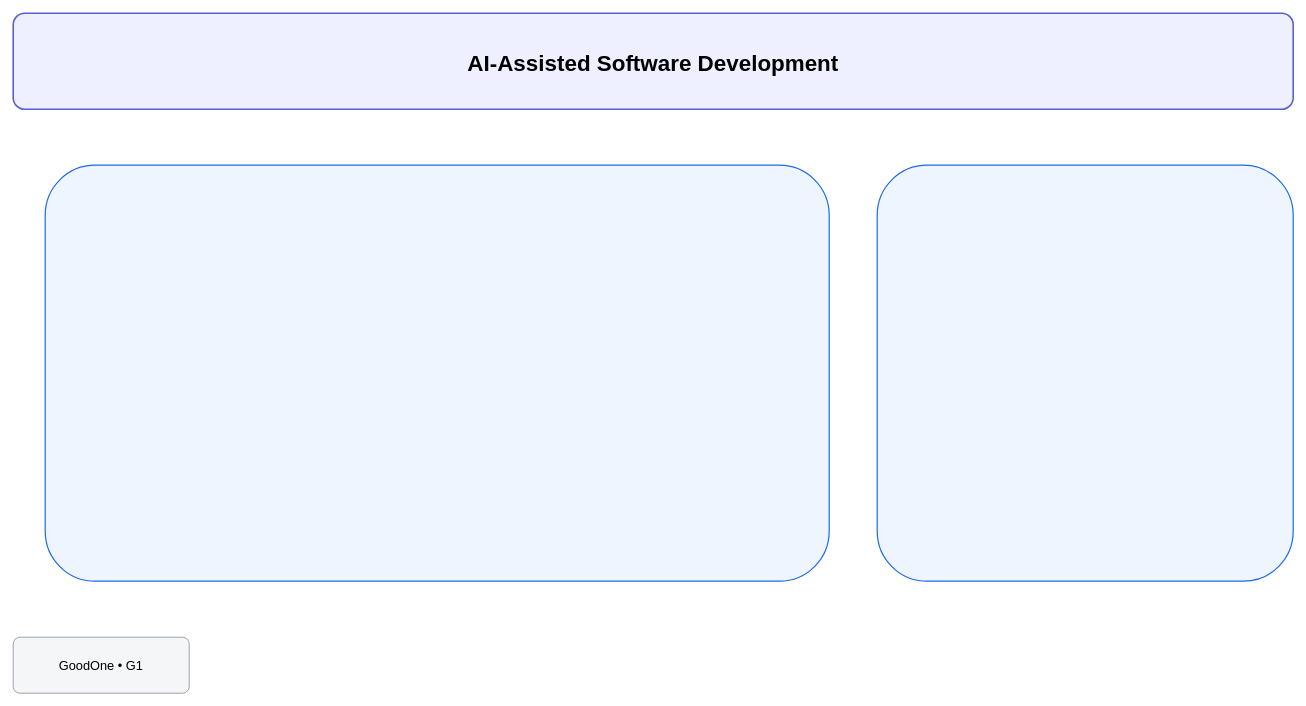
Some shapes in this 1306 by 706 pixel diagram are drawn without their labels. The centre of each missing label's shape, as x and y in pixels:
Android App: pixel 1084 372
Angular Web App: pixel 436 372
